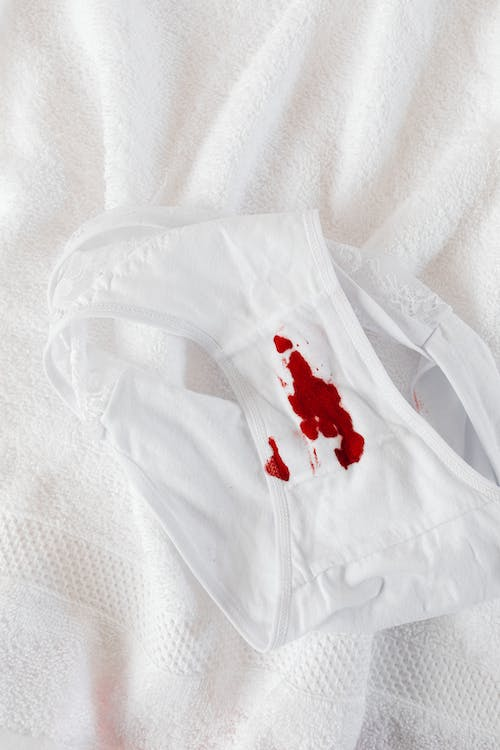blood: (261, 332, 369, 481)
